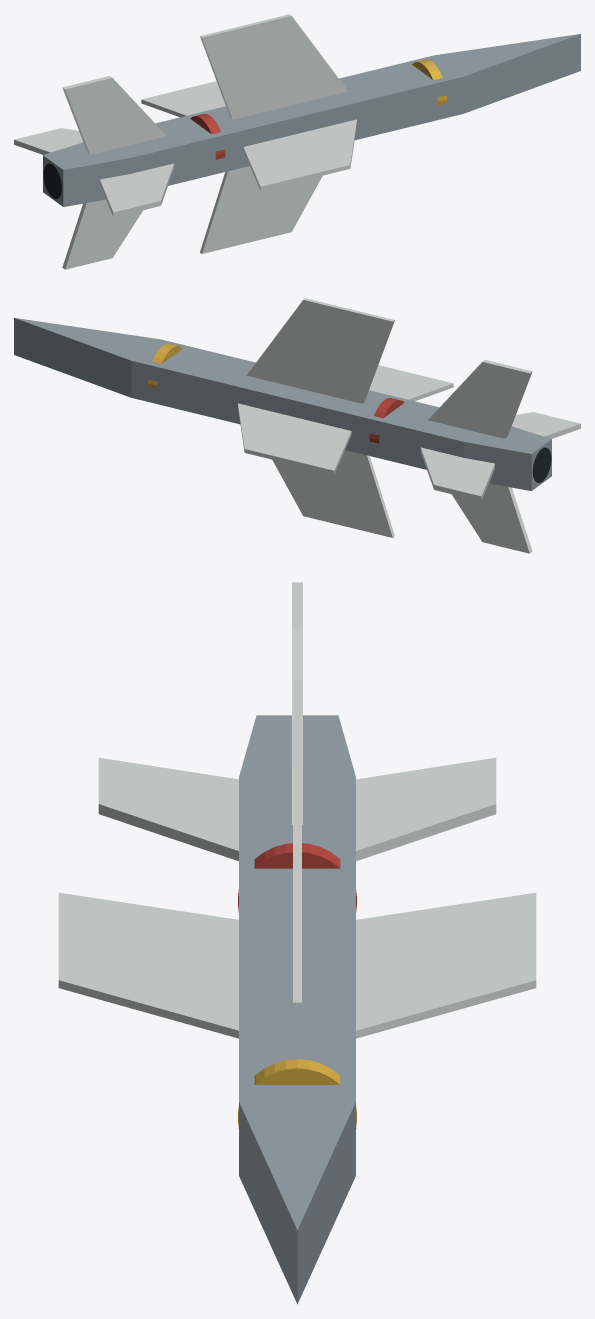
Rendered from nsm_strike_missile.glb.
The picture shows the model from 3 angles, top to bottom: view 1: azimuth 30°, elevation 25°; view 2: azimuth 150°, elevation 25°; view 3: azimuth 270°, elevation 25°; orthographic projection. The views are drawn at different scales.
Parts seen in each view (by area): view 1: nsm_strike_missile; view 2: nsm_strike_missile; view 3: nsm_strike_missile.
Part boxes in pixels (left/top/right/bottom): nsm_strike_missile: left=14, top=14, right=580, bottom=269; nsm_strike_missile: left=14, top=298, right=580, bottom=553; nsm_strike_missile: left=58, top=582, right=536, bottom=1304.
Bounding box in the file's own units: 10 × 3.91 × 3.91.
